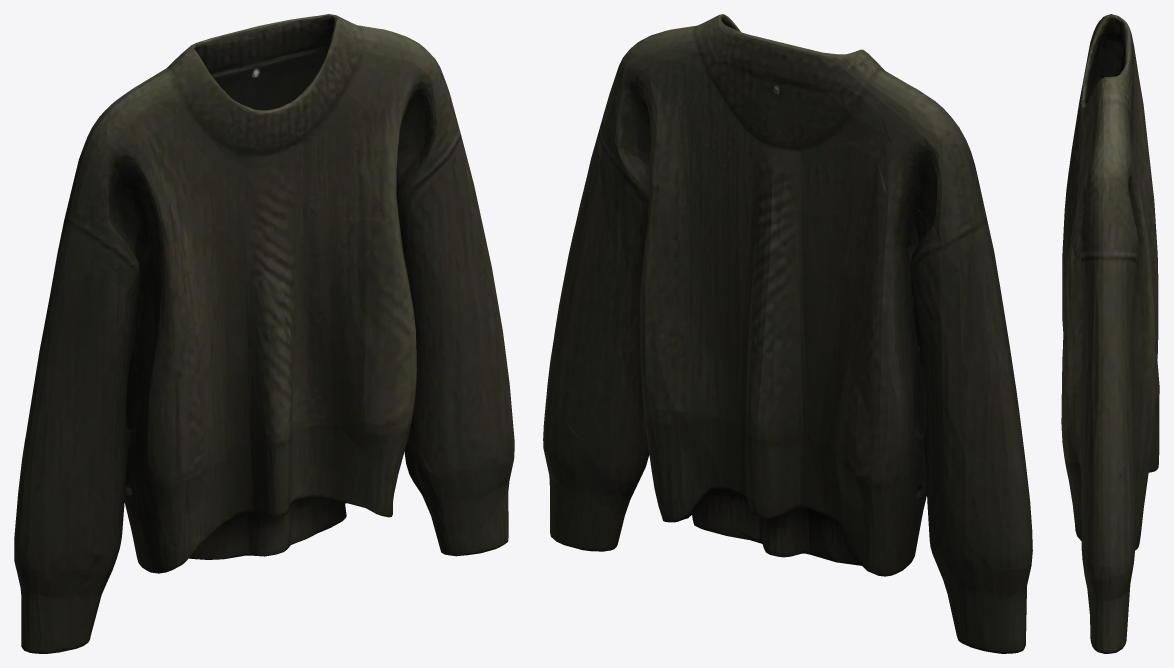
3 renders of one model, left to right at view 1: azimuth 30°, elevation 25°; view 2: azimuth 150°, elevation 25°; view 3: azimuth 270°, elevation 25°, orthographic. The views are drawn at different scales.
Parts seen in each view (by area): view 1: geometry_0; view 2: geometry_0; view 3: geometry_0.
Part boxes in pixels (x1,y1,x2,y2): geometry_0: [14, 14, 514, 653]; geometry_0: [543, 14, 1032, 653]; geometry_0: [1061, 14, 1159, 653].
Size of the model in its own units: 0.9107 by 1 by 0.1764.
Materials: 1 (1 with a texture image).
